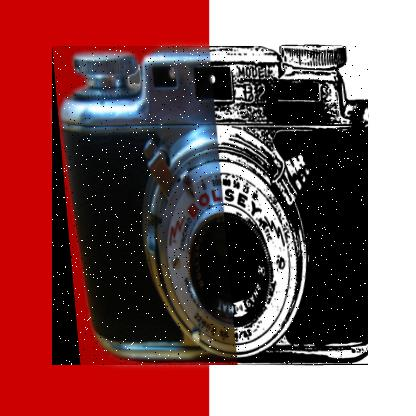Camera: (53, 47, 370, 367)
